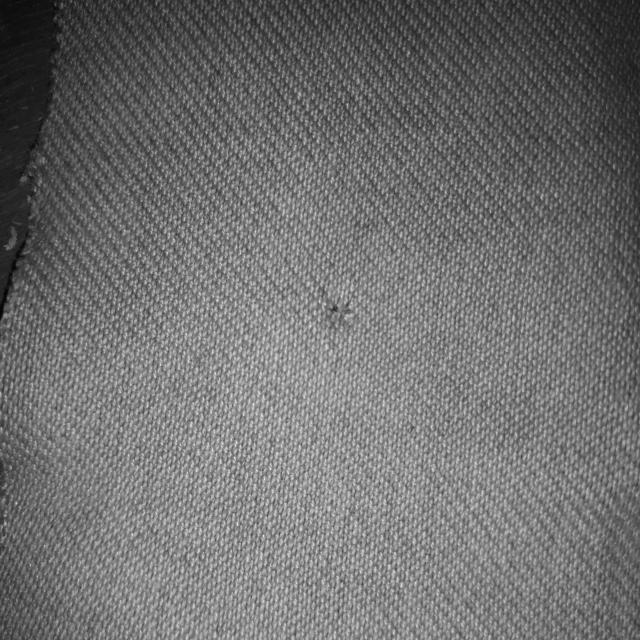other: (266, 250, 386, 360)
